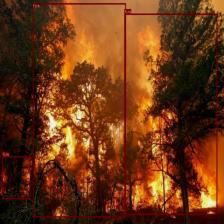fire: (33, 3, 126, 217), (124, 13, 217, 214), (2, 156, 30, 199)
